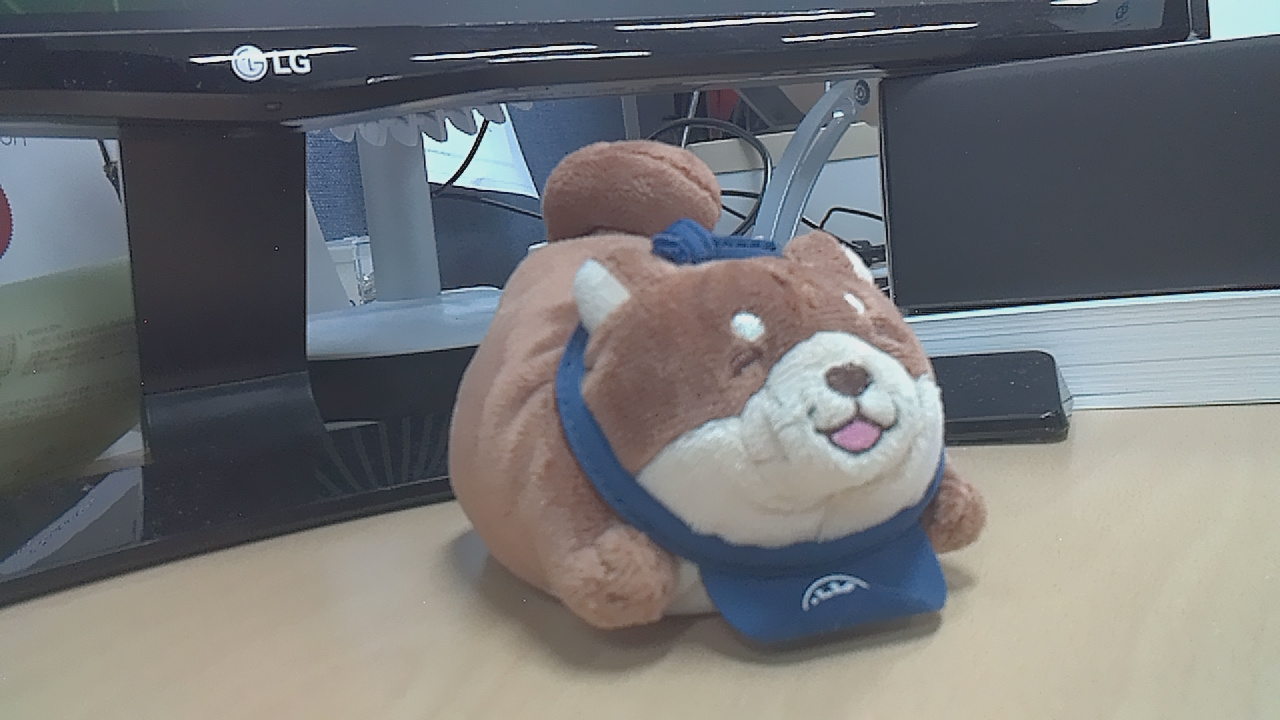cuteDog: (414, 186, 992, 656)
